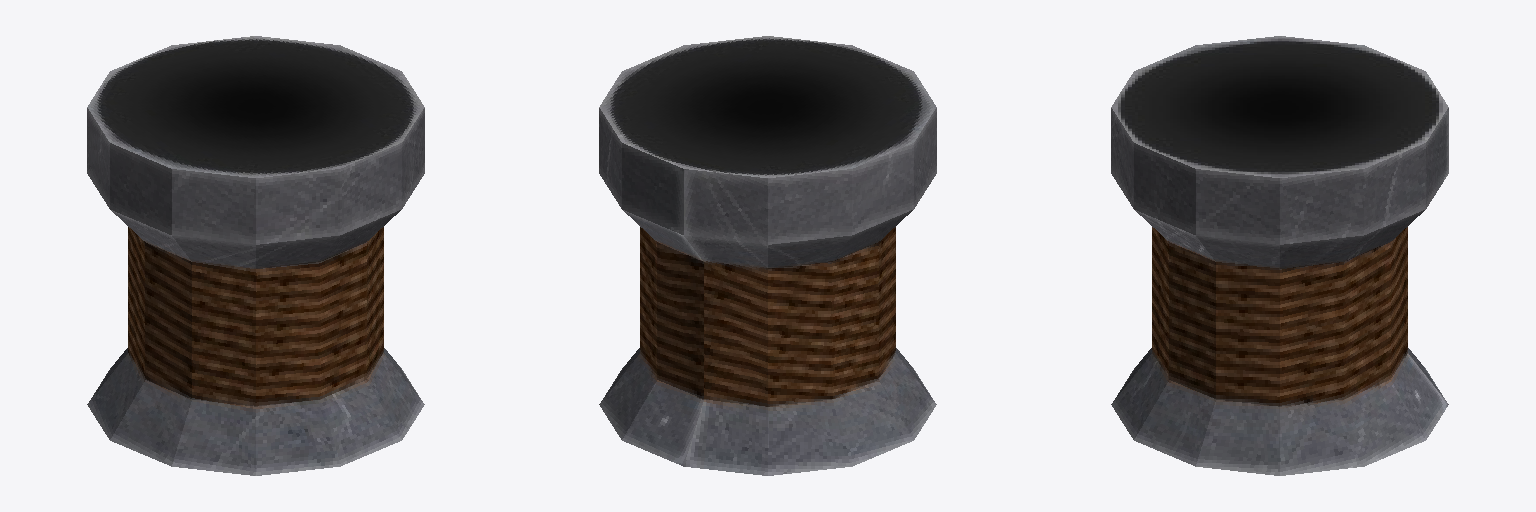
3 renders of one model, left to right at view 1: azimuth 30°, elevation 25°; view 2: azimuth 150°, elevation 25°; view 3: azimuth 270°, elevation 25°, orthographic.
Parts seen in each view (by area): view 1: Object08; view 2: Object08; view 3: Object08.
Part boxes in pixels (x1,y1,x2,y2): Object08: (87, 36, 424, 475); Object08: (599, 36, 936, 475); Object08: (1111, 36, 1448, 475).
Bounding box in the file's own units: 19.96 × 19.43 × 19.96.
1 materials, 1 textured.